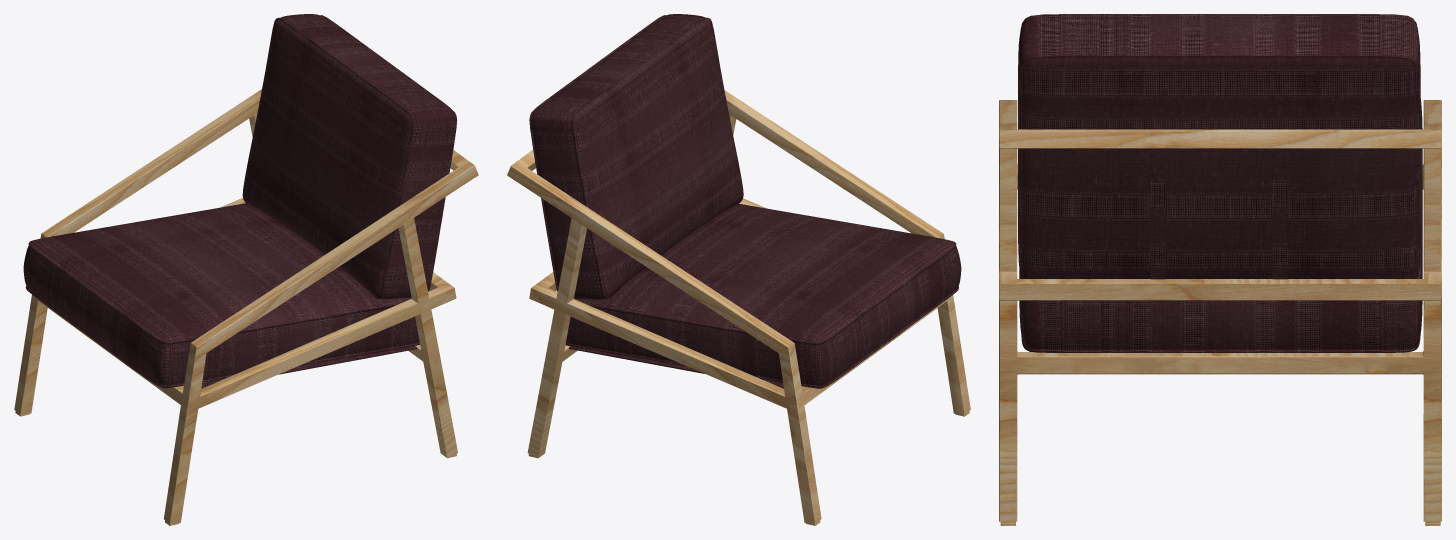
Rendered from movable_restzone_kreslo_hib.gltf.
3 views of the same model, side by side, from view 1: azimuth 30°, elevation 25°; view 2: azimuth 150°, elevation 25°; view 3: azimuth 270°, elevation 25° (orthographic). The views are drawn at different scales.
Visible parts, largest first — view 1: RestzoneKresloHib; view 2: RestzoneKresloHib; view 3: RestzoneKresloHib.
Boxes of the visible parts, bbox=[...] form: RestzoneKresloHib: bbox=[14, 14, 478, 525]; RestzoneKresloHib: bbox=[507, 14, 970, 525]; RestzoneKresloHib: bbox=[999, 14, 1441, 525].
Size of the model in its own units: 0.7525 by 0.794 by 0.6533.
2 materials, 2 textured.
